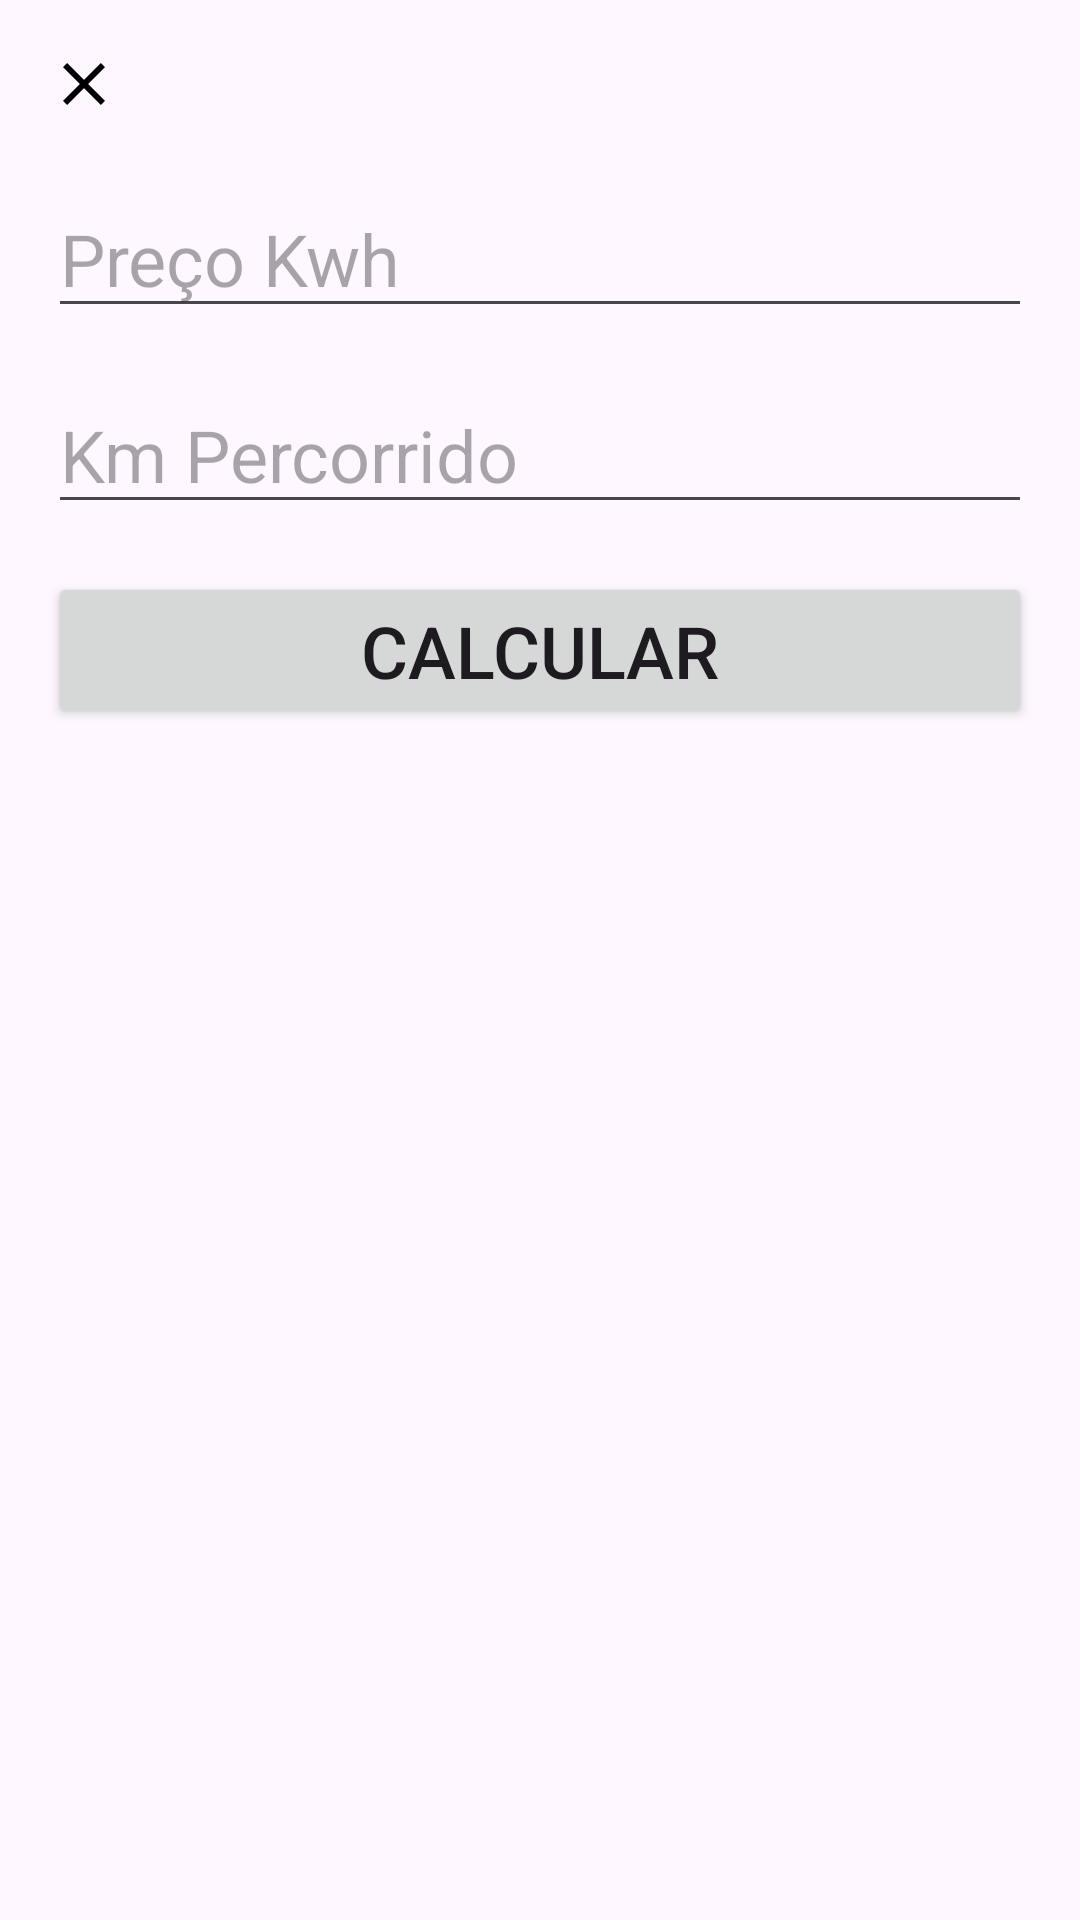

Locate icon controls on the screen. Image size 1080×1920, boxes as [x1, y1, x2, y2].
clear: [63, 63, 105, 105]
